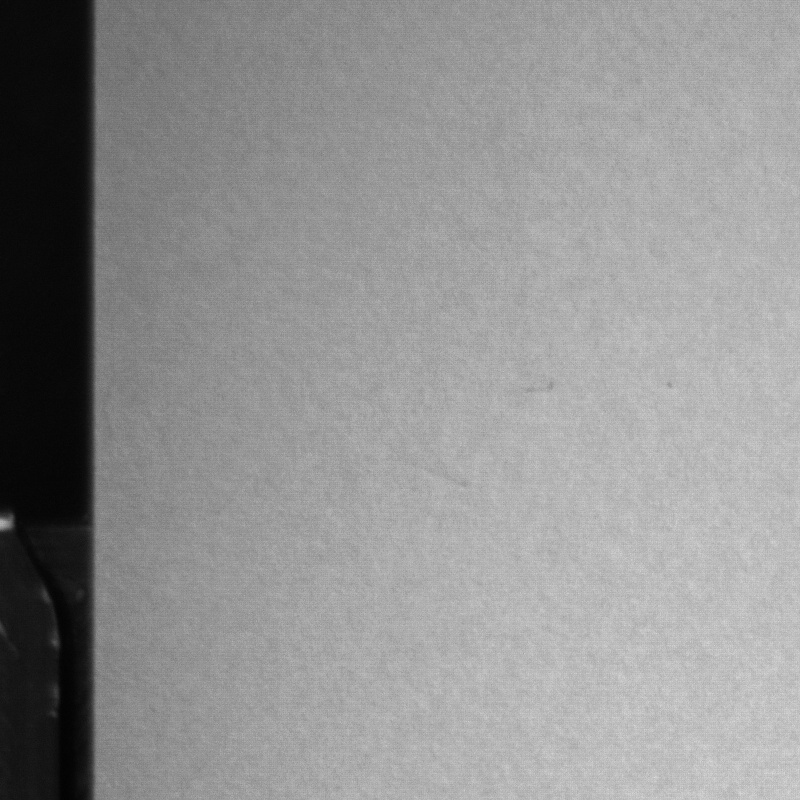defect: (526, 382, 562, 395)
